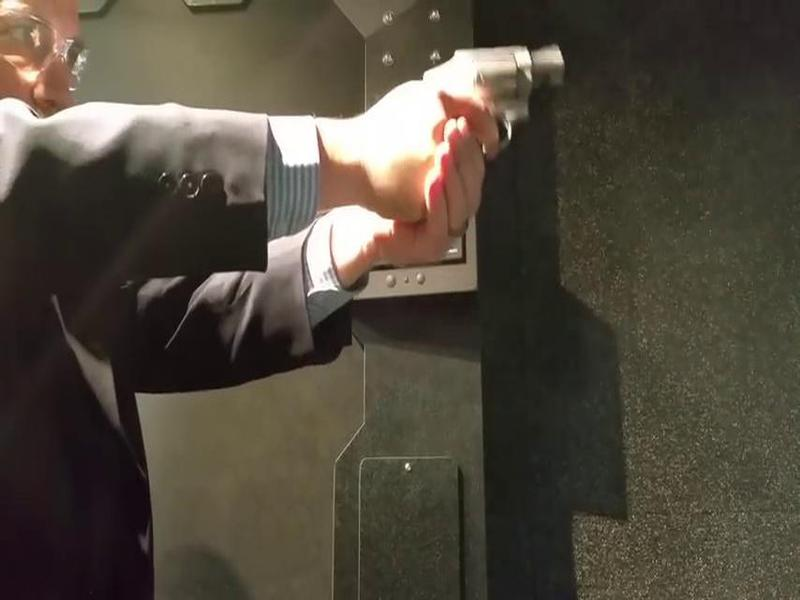Revolver: (397, 37, 572, 169)
